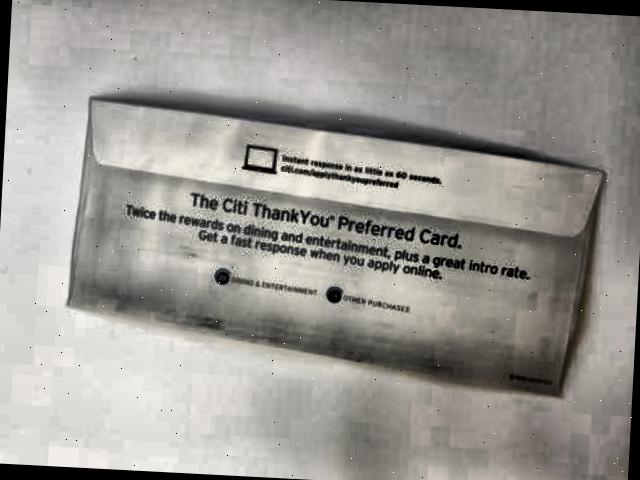Paper: (53, 86, 608, 410)
